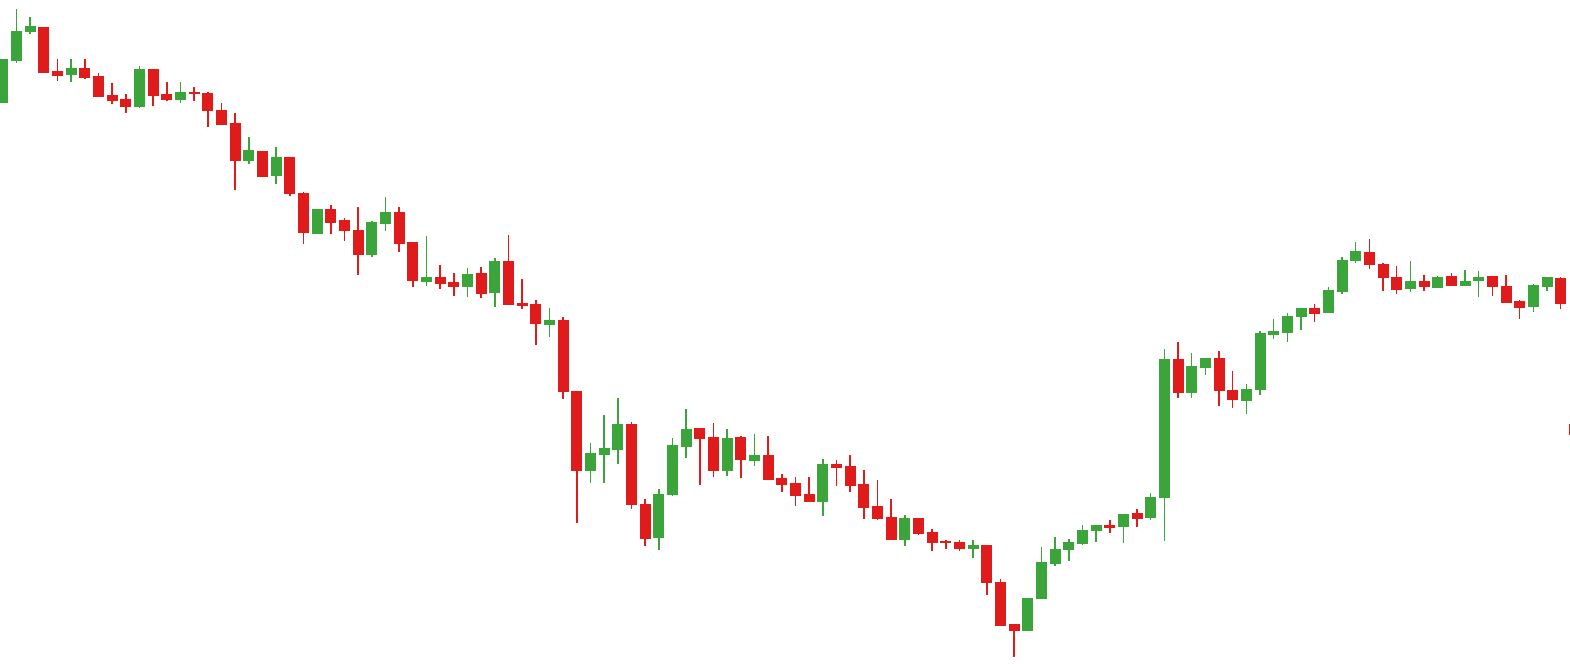buy: (571, 448, 667, 549)
